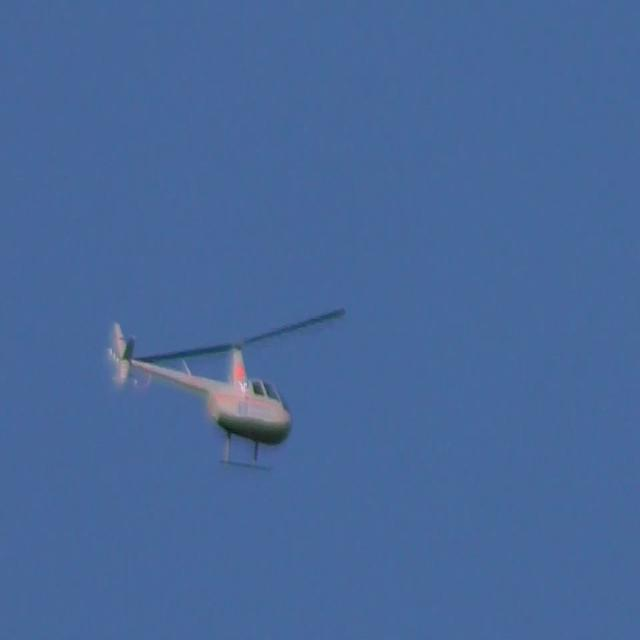CIV_HELO: (109, 319, 294, 474)
